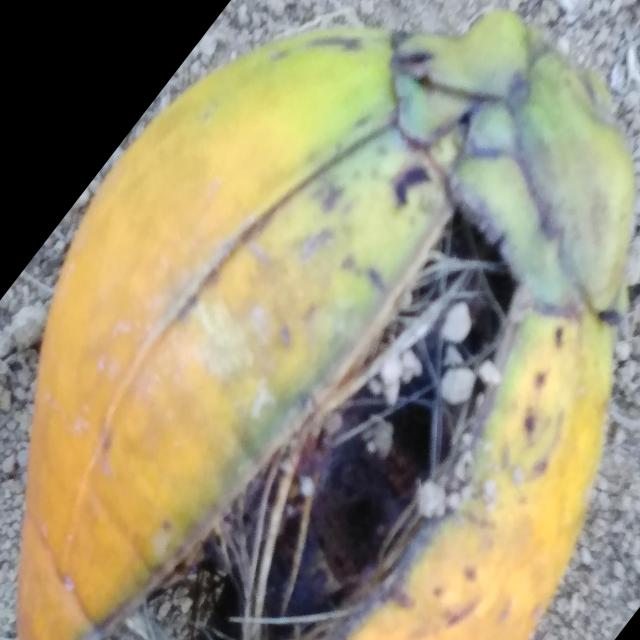damaged: (18, 10, 635, 640)
